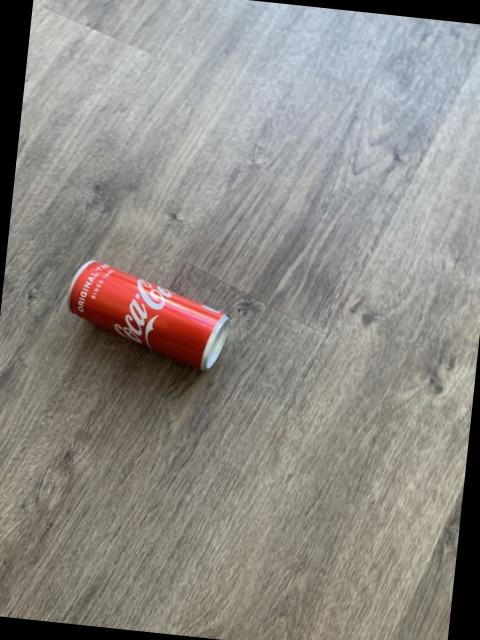metal: (70, 262, 230, 370)
